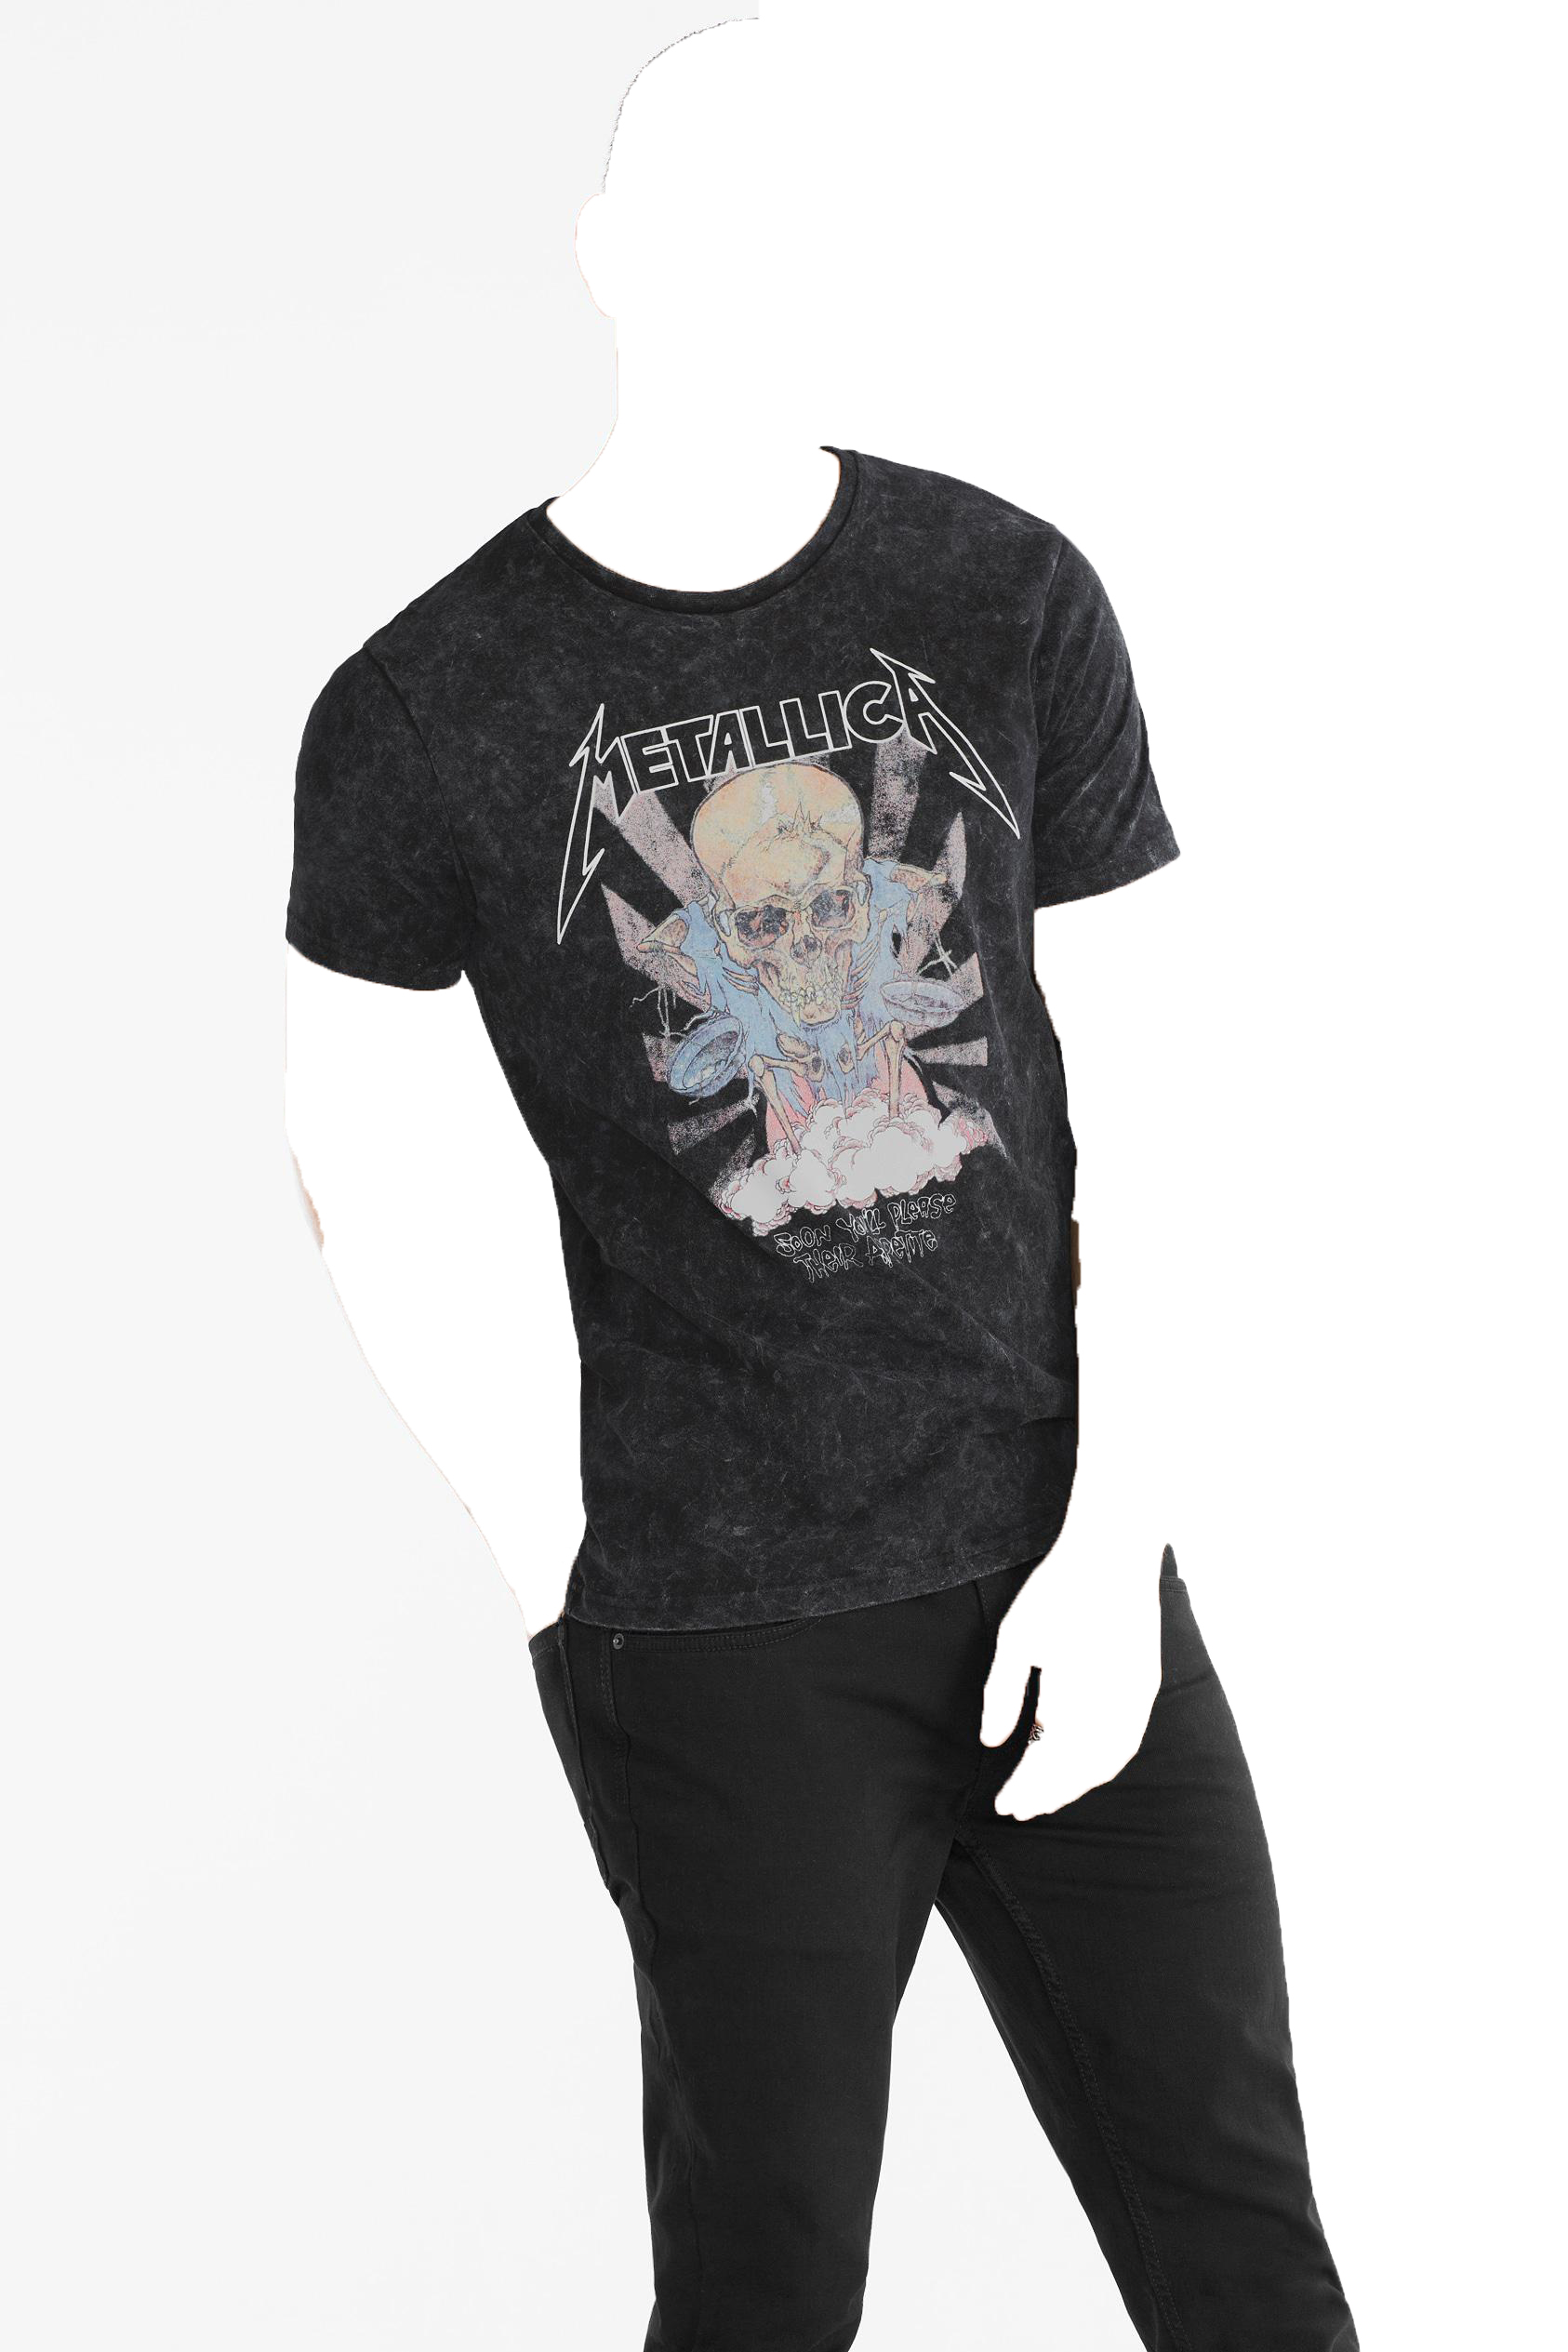teeshirt: (252, 453, 1262, 1666)
